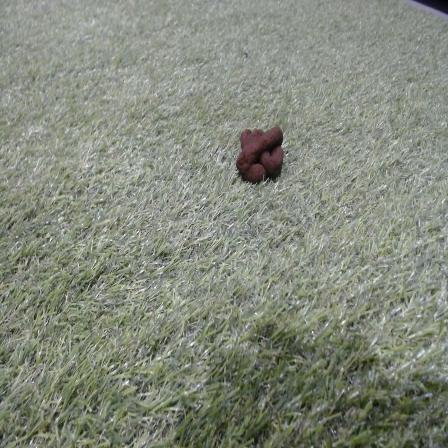dog-poop: (237, 122, 285, 186)
